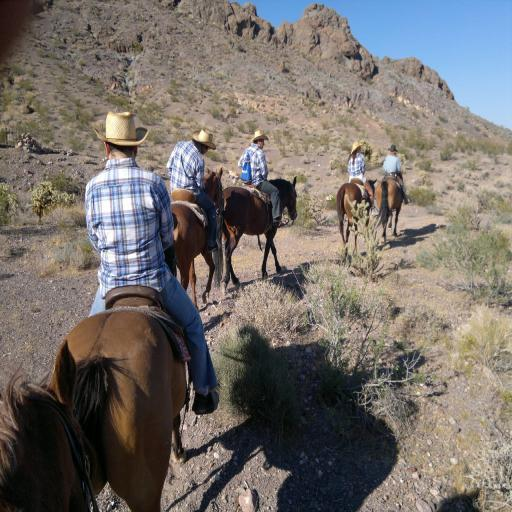horse: (63, 220, 189, 512), (0, 336, 89, 511), (220, 173, 298, 290), (171, 165, 224, 308), (336, 176, 378, 254), (376, 168, 404, 244)
